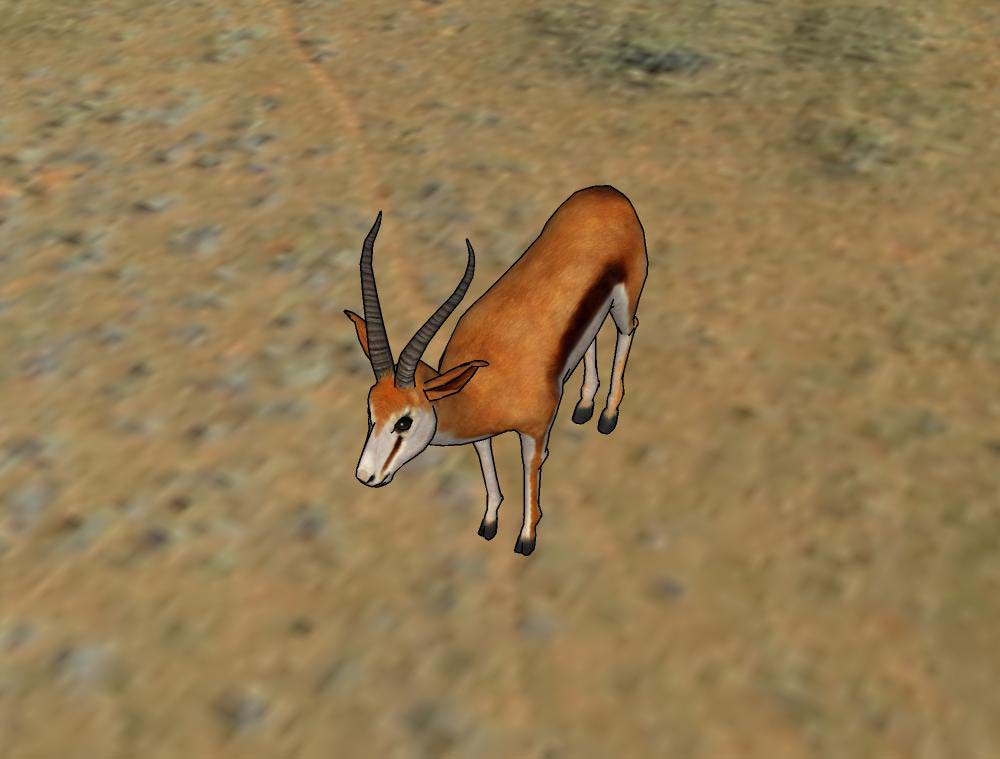springbok: (335, 175, 655, 561)
